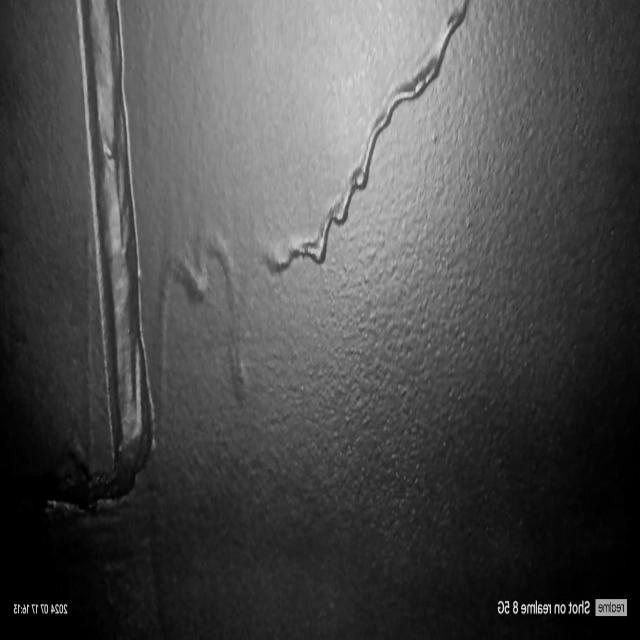paint drips: (258, 0, 475, 283), (150, 221, 251, 463)
